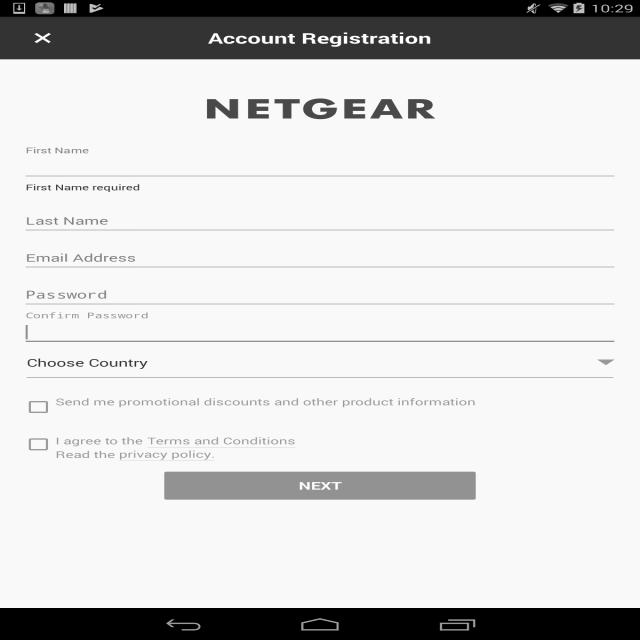Button: (160, 468, 480, 503)
CheckBox: (22, 396, 56, 418), (22, 434, 56, 455)
EditText: (21, 153, 619, 182), (21, 207, 619, 236), (21, 244, 619, 273), (21, 281, 619, 310), (21, 318, 619, 347)
ImageButton: (8, 17, 77, 59)
ImageView: (202, 73, 438, 146), (593, 354, 619, 370)
TextView: (56, 395, 477, 419), (208, 28, 431, 48), (147, 434, 296, 447), (27, 355, 148, 370), (56, 434, 147, 447), (119, 448, 215, 460), (26, 182, 140, 192), (55, 448, 119, 461)
